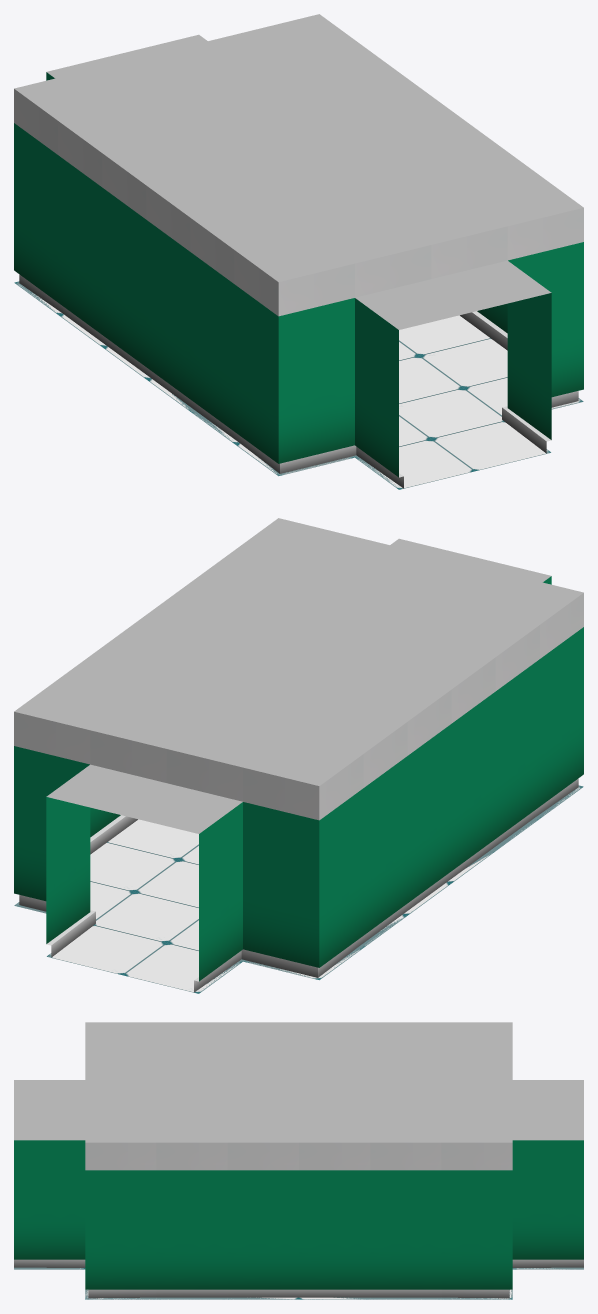
Rendered from Corredor1SaidaBio.fbx.
3 views of the same model, one above another, from view 1: azimuth 30°, elevation 25°; view 2: azimuth 150°, elevation 25°; view 3: azimuth 270°, elevation 25° (orthographic). The views are drawn at different scales.
Visible parts, largest first — view 1: Corredor1SaidaBio; view 2: Corredor1SaidaBio; view 3: Corredor1SaidaBio.
Boxes of the visible parts, left/top/right/bottom form: Corredor1SaidaBio: left=14, top=14, right=583, bottom=489; Corredor1SaidaBio: left=14, top=518, right=583, bottom=993; Corredor1SaidaBio: left=14, top=1022, right=583, bottom=1299.
Size of the model in its own units: 400 by 243 by 800.
Materials: 1 (1 with a texture image).
